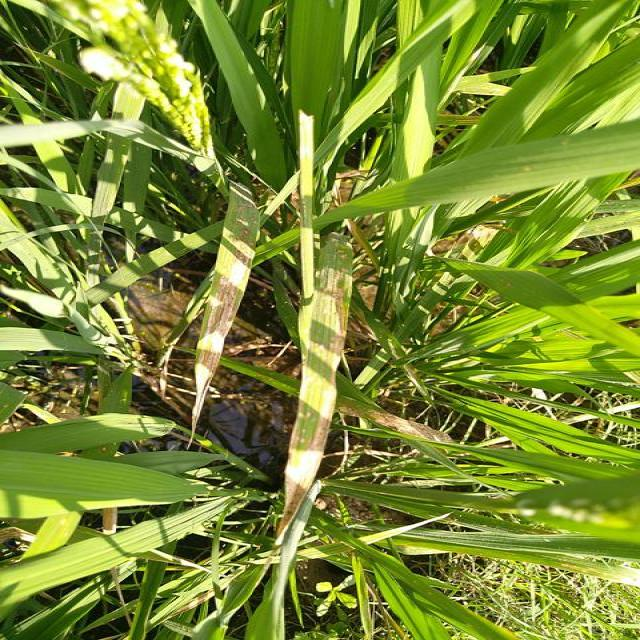Leaf Streak: (279, 235, 353, 540), (189, 179, 259, 444)
